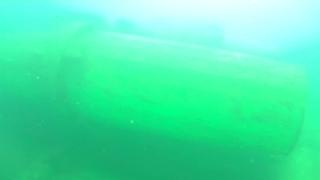pipe: (1, 15, 307, 156)
